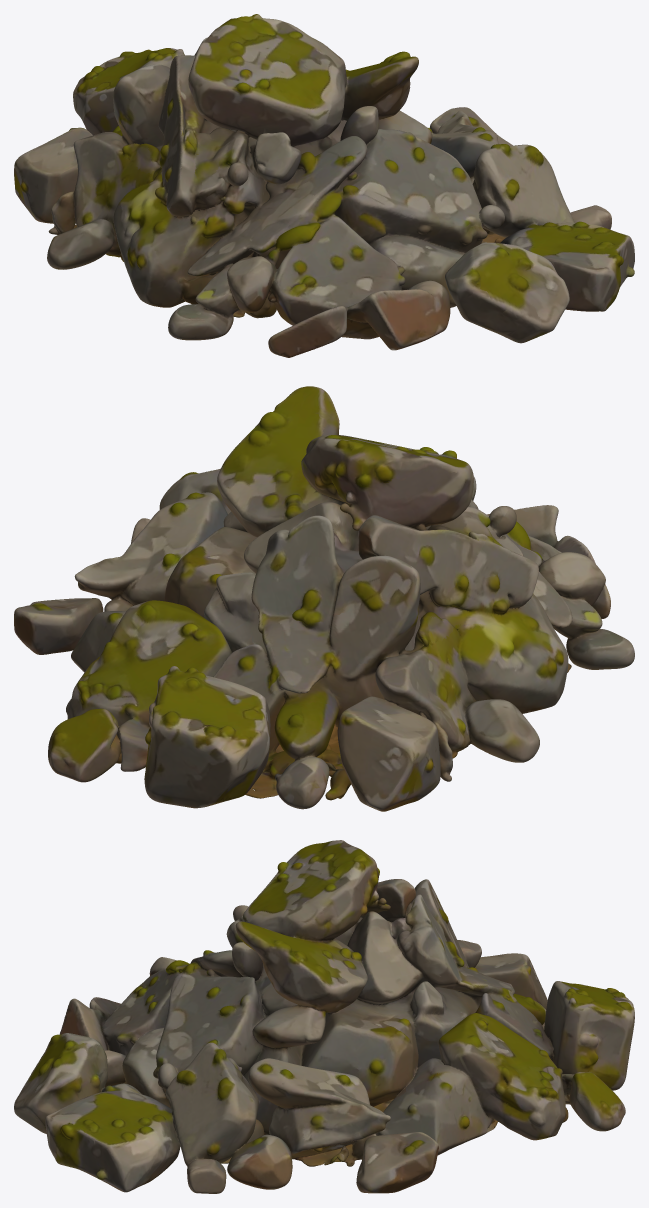
File: ruin_rubble.glb
The picture shows the model from 3 angles, top to bottom: view 1: azimuth 30°, elevation 25°; view 2: azimuth 150°, elevation 25°; view 3: azimuth 270°, elevation 25°; orthographic projection. The views are drawn at different scales.
Visible parts, largest first — view 1: tripo_node_804920f4-55f5-4b9b-a419-f1360cc06ddb; view 2: tripo_node_804920f4-55f5-4b9b-a419-f1360cc06ddb; view 3: tripo_node_804920f4-55f5-4b9b-a419-f1360cc06ddb.
Boxes of the visible parts, x1=… form: tripo_node_804920f4-55f5-4b9b-a419-f1360cc06ddb: x1=14, y1=14, x2=634, y2=357; tripo_node_804920f4-55f5-4b9b-a419-f1360cc06ddb: x1=14, y1=386, x2=634, y2=811; tripo_node_804920f4-55f5-4b9b-a419-f1360cc06ddb: x1=14, y1=840, x2=634, y2=1193.
Bounding box in the file's own units: 0.8053 × 0.3943 × 0.9998.
Materials: 1 (1 with a texture image).
